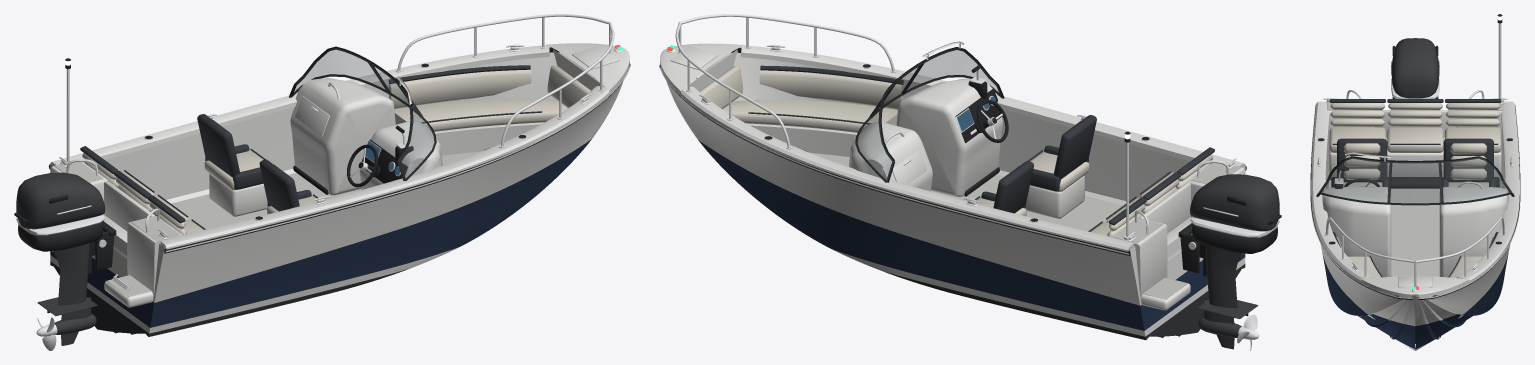
File: v20-inspired-hero.glb
The picture shows the model from 3 angles, left to right: view 1: azimuth 30°, elevation 25°; view 2: azimuth 150°, elevation 25°; view 3: azimuth 270°, elevation 25°; orthographic projection. The views are drawn at different scales.
Parts seen in each view (by area): view 1: Hull, Deck, Upholstery_Bow, Outboard, Console_Companion, AftDeck, Upholstery_Companion, Windshield, Console_Helm, Upholstery_AftBench, Rails, RubRail (+7 smaller); view 2: Hull, Deck, Upholstery_Bow, Outboard, Console_Helm, Upholstery_Helm, AftDeck, Windshield, Console_Companion, Upholstery_AftBench, Rails, RubRail (+6 smaller); view 3: Deck, Upholstery_AftBench, Windshield, Hull, Console_Companion, Console_Helm, Outboard, Upholstery_Companion, Upholstery_Helm, Rails, AftDeck, Upholstery_Bow (+3 smaller).
Boxes of the visible parts, box(x1,y1,x2,y2) form: Hull: box(50, 46, 623, 336); Deck: box(50, 43, 629, 249); Upholstery_Bow: box(388, 65, 590, 155); Outboard: box(14, 172, 105, 345); Console_Companion: box(290, 78, 395, 195); AftDeck: box(51, 161, 182, 298); Upholstery_Companion: box(197, 114, 275, 216); Windshield: box(289, 46, 436, 180); Console_Helm: box(359, 120, 442, 189); Upholstery_AftBench: box(80, 146, 205, 234); Rails: box(66, 14, 614, 290); RubRail: box(48, 47, 630, 253); Hull: box(666, 47, 1245, 340); Deck: box(660, 43, 1245, 251); Upholstery_Bow: box(699, 65, 903, 156); Outboard: box(1190, 174, 1281, 349); Console_Helm: box(896, 78, 1002, 197); Upholstery_Helm: box(1018, 115, 1096, 218); AftDeck: box(1112, 163, 1244, 300); Windshield: box(855, 41, 1004, 182); Console_Companion: box(849, 121, 932, 191); Upholstery_AftBench: box(1088, 147, 1214, 236); Rails: box(675, 14, 1229, 234); RubRail: box(659, 47, 1246, 255); Deck: box(1311, 101, 1519, 316); Upholstery_AftBench: box(1329, 99, 1501, 188); Windshield: box(1316, 152, 1514, 205); Hull: box(1320, 244, 1510, 350); Console_Companion: box(1439, 181, 1508, 277); Console_Helm: box(1322, 187, 1391, 277); Outboard: box(1391, 38, 1439, 98); Upholstery_Companion: box(1442, 138, 1495, 187); Upholstery_Helm: box(1337, 138, 1388, 187); Rails: box(1324, 90, 1506, 287); AftDeck: box(1326, 100, 1504, 137); Upholstery_Bow: box(1332, 232, 1498, 319).
Bounding box in the file's own units: 5.97 × 2.23 × 2.09.
